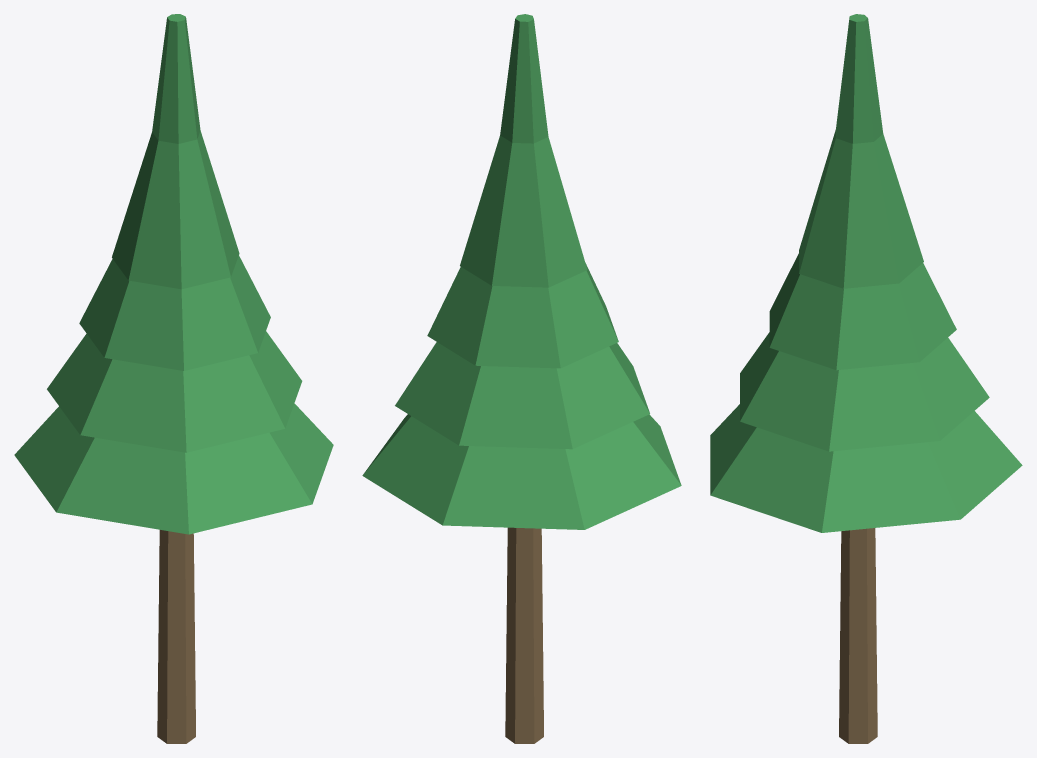
File: conifer_0.glb
3 views of the same model, side by side, from view 1: azimuth 30°, elevation 25°; view 2: azimuth 150°, elevation 25°; view 3: azimuth 270°, elevation 25° (orthographic).
Parts seen in each view (by area): view 1: conifer_0_needle_0, conifer_0_needle_1, conifer_0_needle_2, conifer_0_needle_3, conifer_0_trunk, conifer_0_needle_4; view 2: conifer_0_needle_0, conifer_0_needle_1, conifer_0_needle_2, conifer_0_needle_3, conifer_0_trunk, conifer_0_needle_4; view 3: conifer_0_needle_0, conifer_0_needle_1, conifer_0_needle_2, conifer_0_needle_3, conifer_0_trunk, conifer_0_needle_4.
Part boxes in pixels (x1,y1,x2,y2): conifer_0_needle_0: (14,403,333,534); conifer_0_needle_1: (47,331,302,452); conifer_0_needle_2: (79,255,270,370); conifer_0_needle_3: (112,131,239,289); conifer_0_trunk: (157,530,195,743); conifer_0_needle_4: (152,14,200,143); conifer_0_needle_0: (362,414,681,529); conifer_0_needle_1: (395,342,649,449); conifer_0_needle_2: (427,263,618,368); conifer_0_needle_3: (460,135,587,287); conifer_0_trunk: (505,527,543,743); conifer_0_needle_4: (500,14,548,143); conifer_0_needle_0: (710,404,1022,532); conifer_0_needle_1: (740,332,989,451); conifer_0_needle_2: (769,253,956,370); conifer_0_needle_3: (799,129,923,288); conifer_0_trunk: (839,528,877,743); conifer_0_needle_4: (836,14,883,143).
Size of the model in its own units: 1.65 by 4.09 by 1.61.
